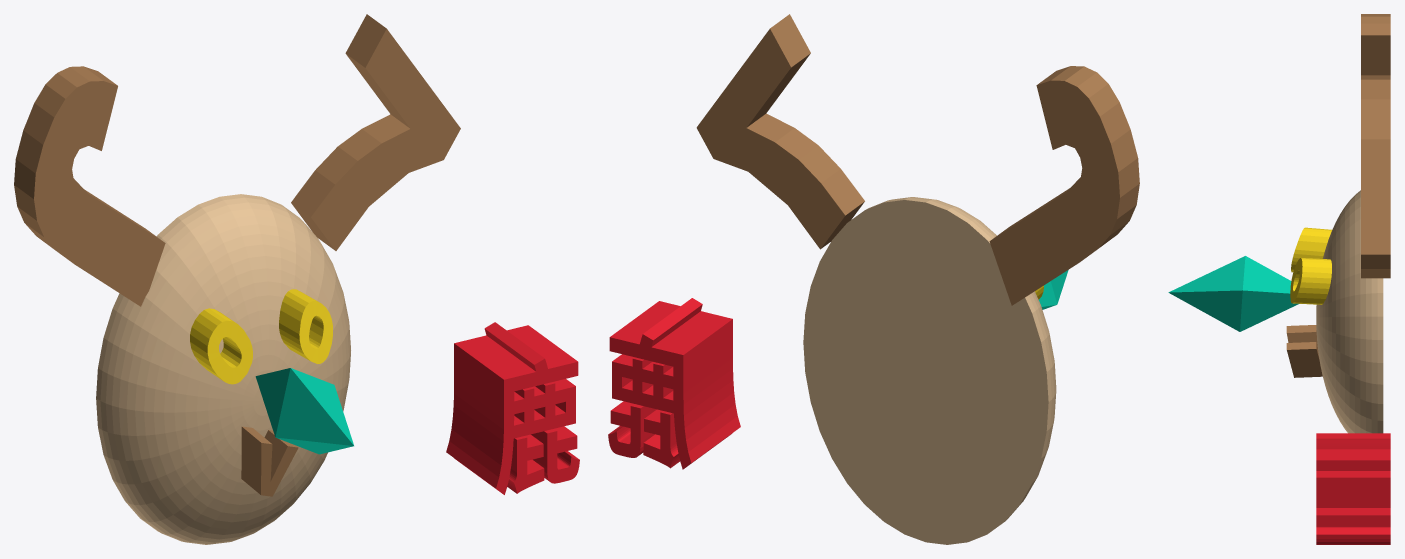
File: tinker.obj
3 views of the same model, side by side, from view 1: azimuth 30°, elevation 25°; view 2: azimuth 150°, elevation 25°; view 3: azimuth 270°, elevation 25° (orthographic). The views are drawn at different scales.
Parts seen in each view (by area): view 1: group_0_14860437, group_0_11107152, group_0_15277357, group_0_16768282, group_0_51623; view 2: group_0_14860437, group_0_11107152, group_0_15277357; view 3: group_0_14860437, group_0_11107152, group_0_15277357, group_0_51623, group_0_16768282.
Boxes of the visible parts, bbox=[...] form: group_0_14860437: bbox=[96, 194, 350, 544]; group_0_11107152: bbox=[14, 14, 460, 496]; group_0_15277357: bbox=[446, 322, 579, 494]; group_0_16768282: bbox=[190, 289, 332, 384]; group_0_51623: bbox=[255, 368, 353, 454]; group_0_14860437: bbox=[803, 197, 1056, 544]; group_0_11107152: bbox=[696, 14, 1139, 305]; group_0_15277357: bbox=[608, 298, 740, 469]; group_0_14860437: bbox=[1316, 190, 1383, 433]; group_0_11107152: bbox=[1286, 14, 1390, 377]; group_0_15277357: bbox=[1316, 433, 1390, 544]; group_0_51623: bbox=[1168, 256, 1299, 331]; group_0_16768282: bbox=[1290, 227, 1331, 304].
Size of the model in its own units: 30 by 28 by 15.
